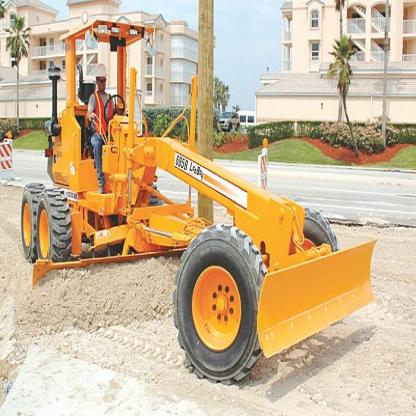bull_dozer/loader/grader: (12, 8, 362, 385)
